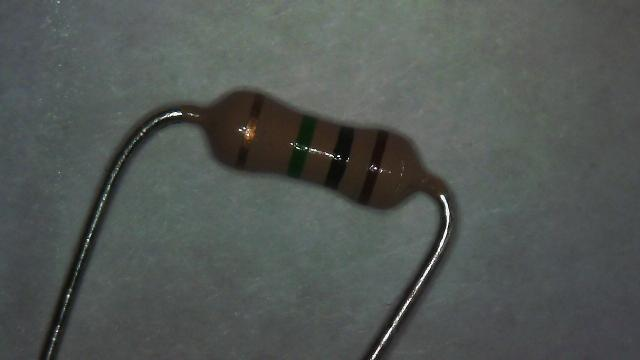black: (324, 126, 356, 190)
brown: (358, 130, 388, 205)
gold: (234, 94, 264, 168)
green: (286, 114, 316, 178)
resistor: (172, 66, 452, 237)
